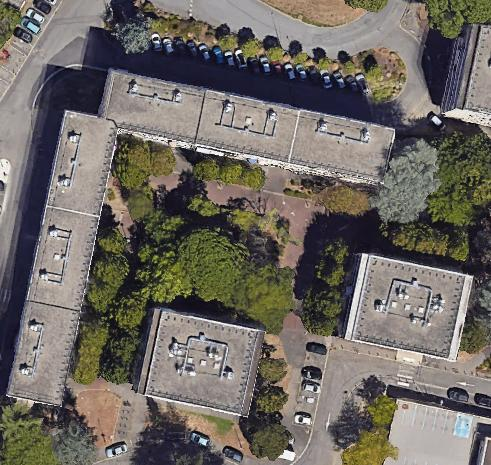immeuble: (94, 67, 396, 190), (6, 110, 119, 406), (339, 251, 472, 363), (135, 305, 264, 415), (441, 25, 490, 126)
